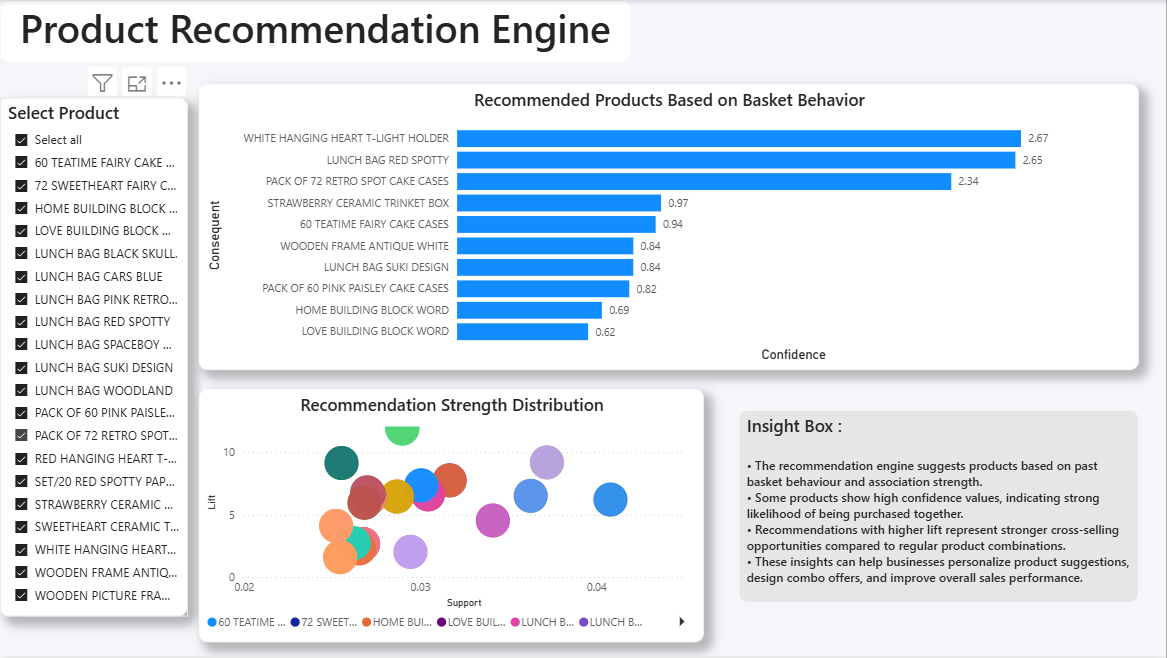

This screenshot's page, from the dashboard's own definition file:
{"tool":"powerbi","page":{"name":"Product Recommendation Engine","canvas":[1280,720],"ordinal":2},"visuals":[{"type":"textbox","box":[0,0,693,68.6],"z":0},{"type":"slicer","title":"Select Product","fields":{"Values":["association_rules.Antecedent"]},"box":[0,107,205.8,569.5],"z":1000},{"type":"barChart","title":"Recommended Products Based on Basket Behavior","fields":{"Category":["association_rules.Consequent"],"Y":["Sum(association_rules.confidence)"]},"box":[218.2,91.9,1031.9,314.2],"z":2000},{"type":"scatterChart","title":"Recommendation Strength Distribution","fields":{"X":["association_rules.support"],"Y":["association_rules.lift"],"Size":["CountNonNull(association_rules.confidence)"],"Series":["association_rules.Consequent"]},"box":[218.2,426.8,554.4,278.6],"z":3000},{"type":"textbox","title":"Insight Box :","box":[811,450.1,439.1,211.3],"z":4000}]}

Visuals, with their boxes in screenshot pixels (x1, y1, x2, y2), scaled from the page's 1280x720 canvas onto the 1167x658 screenshot:
textbox: (0, 0, 632, 63)
"Select Product" slicer: (0, 98, 188, 618)
"Recommended Products Based on Basket Behavior" barChart: (199, 84, 1140, 371)
"Recommendation Strength Distribution" scatterChart: (199, 390, 704, 645)
"Insight Box :" textbox: (739, 411, 1140, 604)
